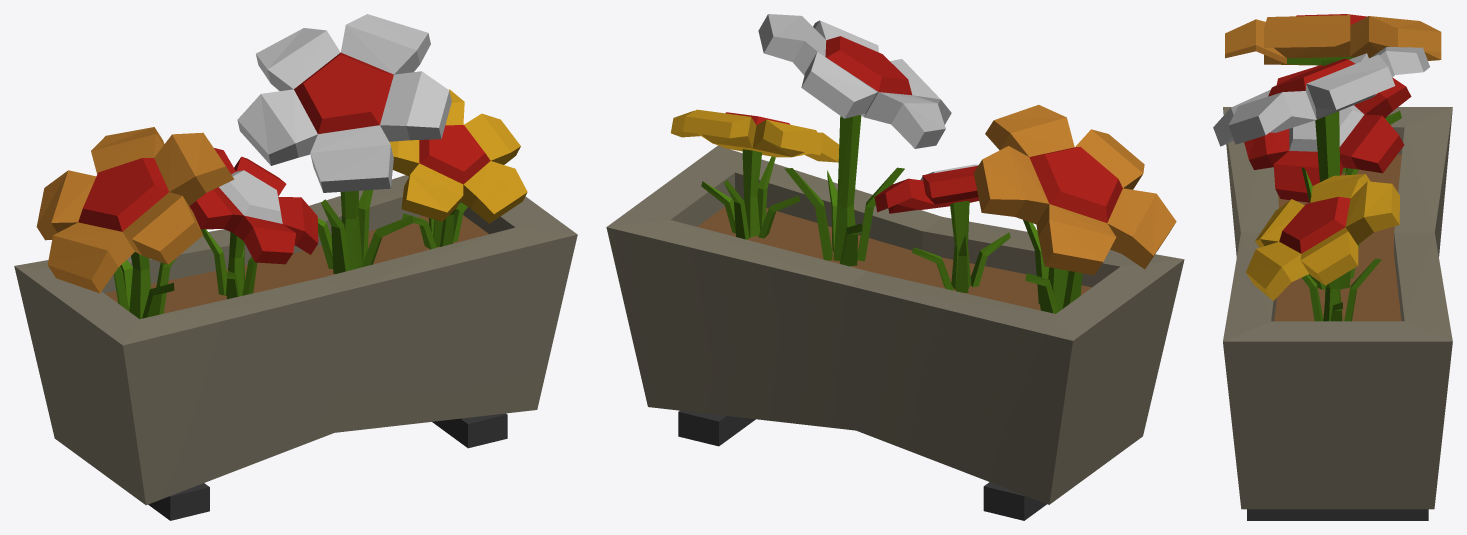
Rendered from Flowerpot_01.FBX.
The picture shows the model from 3 angles, left to right: view 1: azimuth 30°, elevation 25°; view 2: azimuth 150°, elevation 25°; view 3: azimuth 270°, elevation 25°; orthographic projection. The views are drawn at different scales.
Parts seen in each view (by area): view 1: Flowerpot_01; view 2: Flowerpot_01; view 3: Flowerpot_01.
Boxes of the visible parts, x1,y1,x2,y2 form: Flowerpot_01: (14,14,577,520); Flowerpot_01: (606,14,1184,520); Flowerpot_01: (1213,14,1452,520).
Size of the model in its own units: 0.9669 by 0.7621 by 0.3977.
